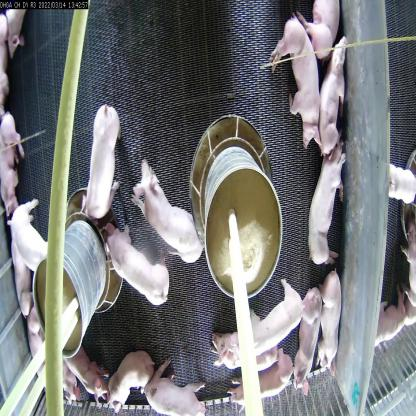Pig: (208, 269, 308, 370), (132, 147, 206, 278), (267, 4, 321, 146), (97, 233, 173, 312), (78, 105, 127, 217), (302, 140, 340, 271), (101, 333, 157, 415), (223, 345, 294, 409), (315, 33, 349, 156), (3, 186, 52, 266), (144, 359, 206, 415), (0, 93, 27, 221), (318, 252, 343, 376), (296, 296, 322, 398), (62, 344, 107, 396), (11, 249, 33, 322)
